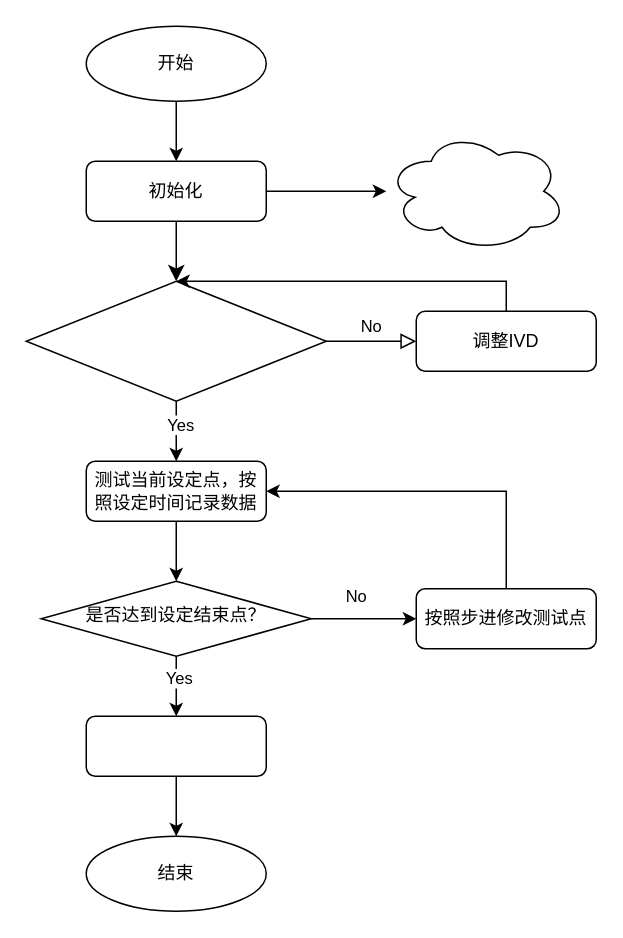
Image size: 623x938. Some labels were removed from this diagram. Here are the shapes that lost their labels. From the top down, the centre of each, then its label:
the point at 475,190: 定义起始点、结束点、步进点
the point at 175,340: 起始点是否在设定点附近？
the point at 175,745: 图像显示
